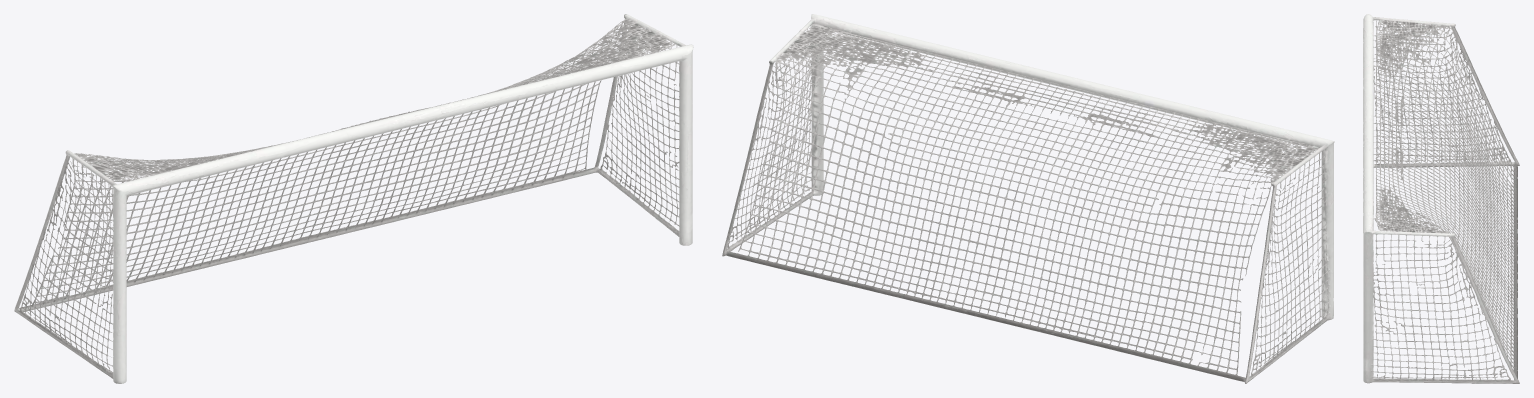
Rendered from Porta da calcio.glb.
3 renders of one model, left to right at view 1: azimuth 30°, elevation 25°; view 2: azimuth 150°, elevation 25°; view 3: azimuth 270°, elevation 25°, orthographic. The views are drawn at different scales.
Size of the model in its own units: 1.9 by 0.616 by 0.5745.
1 material, 1 textured.
